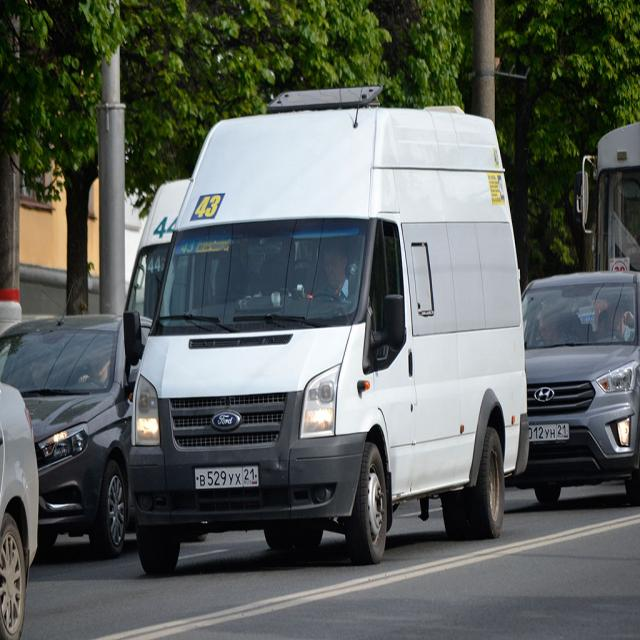number-of-bus: (192, 193, 226, 222), (181, 235, 198, 255)
